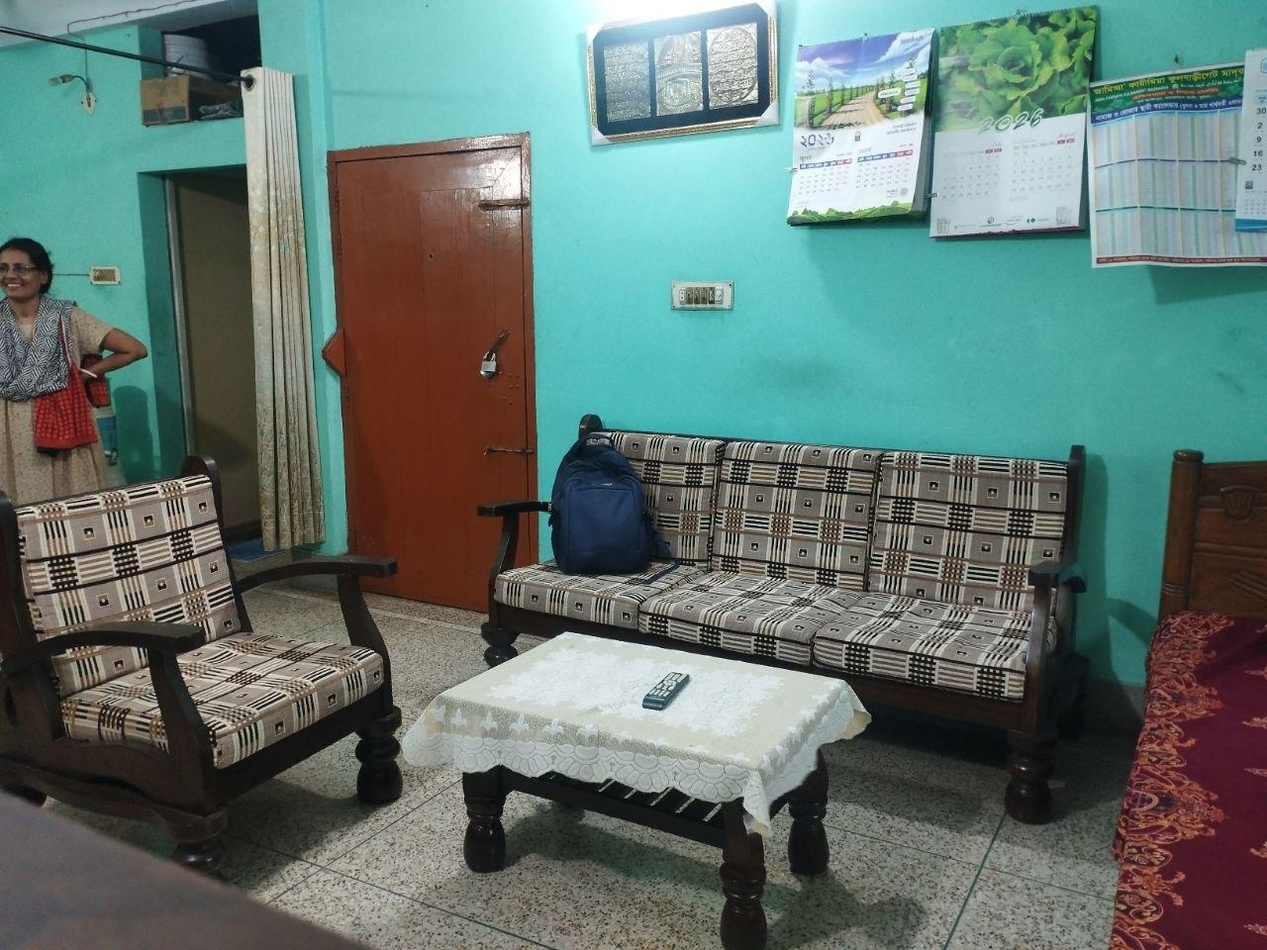Bag: (551, 420, 698, 593)
Lock: (317, 143, 529, 599), (458, 339, 502, 385)
Photo: (563, 14, 785, 141), (920, 24, 1124, 123), (793, 34, 944, 125)
Remote: (629, 651, 694, 730)
Table: (420, 587, 868, 950)
Towel: (32, 361, 107, 454)
